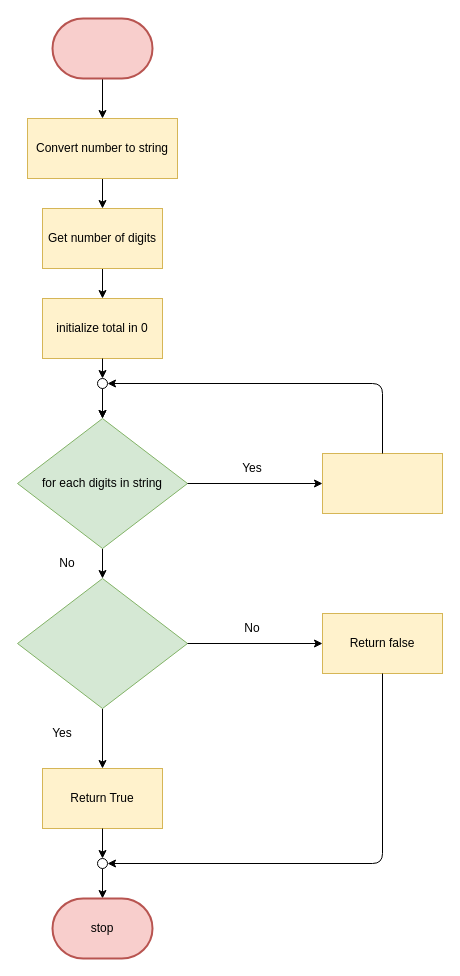
Some shapes in this 460 by 976 pixel diagram are drawn without their labels. Here are the shapes that lost their labels. From the top down, the centre of each, then its label:
the point at 102,48: start
the point at 382,483: Add digitnum digits to total
the point at 102,643: Is total equal to number?
